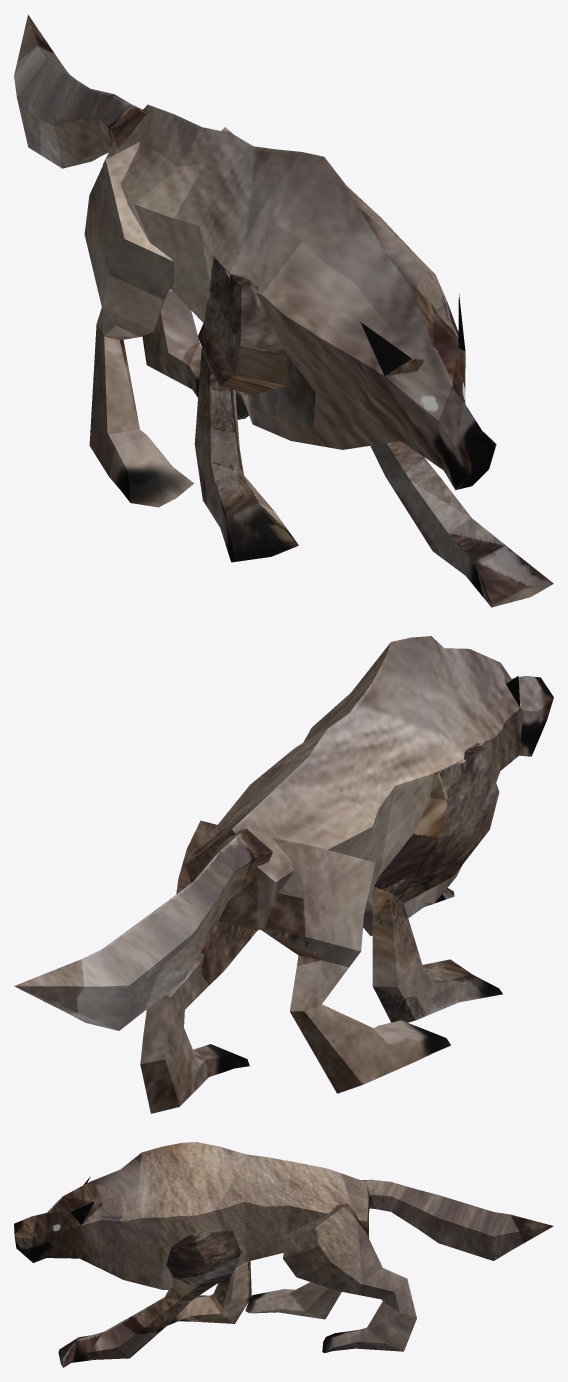
Rendered from Wolf2.glb.
The picture shows the model from 3 angles, top to bottom: view 1: azimuth 30°, elevation 25°; view 2: azimuth 150°, elevation 25°; view 3: azimuth 270°, elevation 25°; orthographic projection. The views are drawn at different scales.
Visible parts, largest first — view 1: Circle; view 2: Circle; view 3: Circle.
Part boxes in pixels (x1,y1,x2,y2): Circle: [14, 14, 553, 607]; Circle: [14, 636, 553, 1113]; Circle: [14, 1142, 553, 1367].
Size of the model in its own units: 0.4883 by 0.7164 by 1.77.
1 material, 1 textured.
